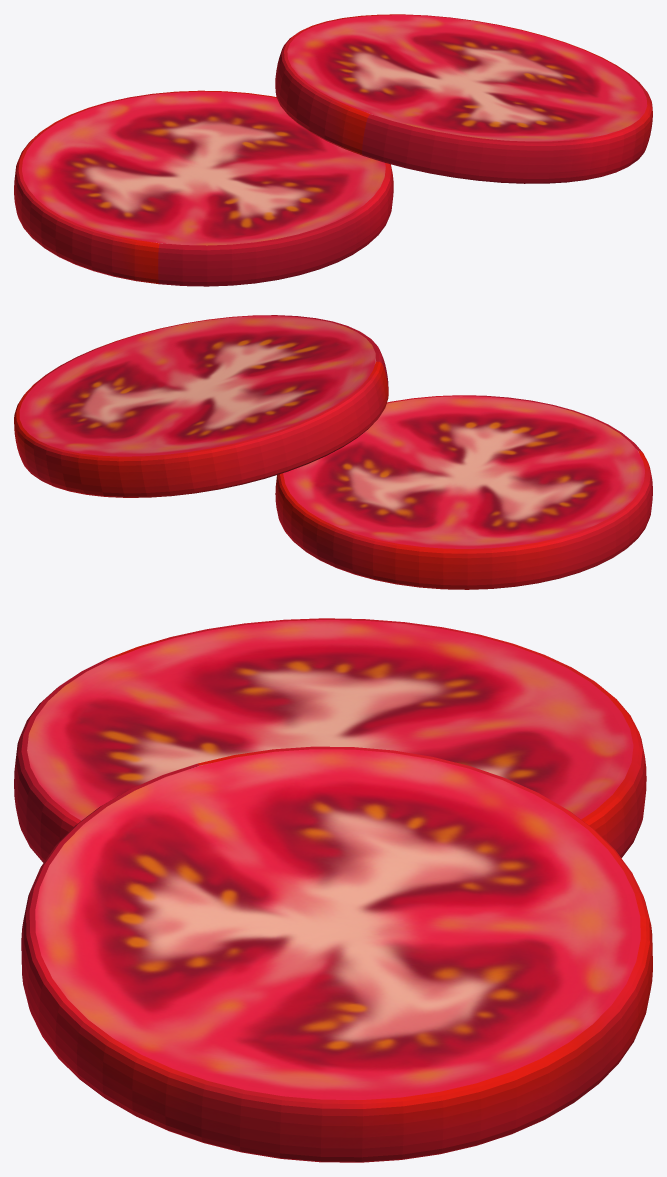
Rendered from tomato.obj.
3 renders of one model, top to bottom at view 1: azimuth 30°, elevation 25°; view 2: azimuth 150°, elevation 25°; view 3: azimuth 270°, elevation 25°, orthographic. The views are drawn at different scales.
Parts seen in each view (by area): view 1: Cylinder, Cylinder.002; view 2: Cylinder, Cylinder.002; view 3: Cylinder.002, Cylinder.
Boxes of the visible parts, x1,y1,x2,y2 form: Cylinder: (14, 90, 393, 286); Cylinder.002: (275, 14, 652, 183); Cylinder: (275, 395, 652, 589); Cylinder.002: (14, 315, 388, 497); Cylinder.002: (21, 746, 652, 1162); Cylinder: (14, 618, 646, 862).
Size of the model in its own units: 2.72 by 0.4376 by 1.53.
Materials: 1 (1 with a texture image).
